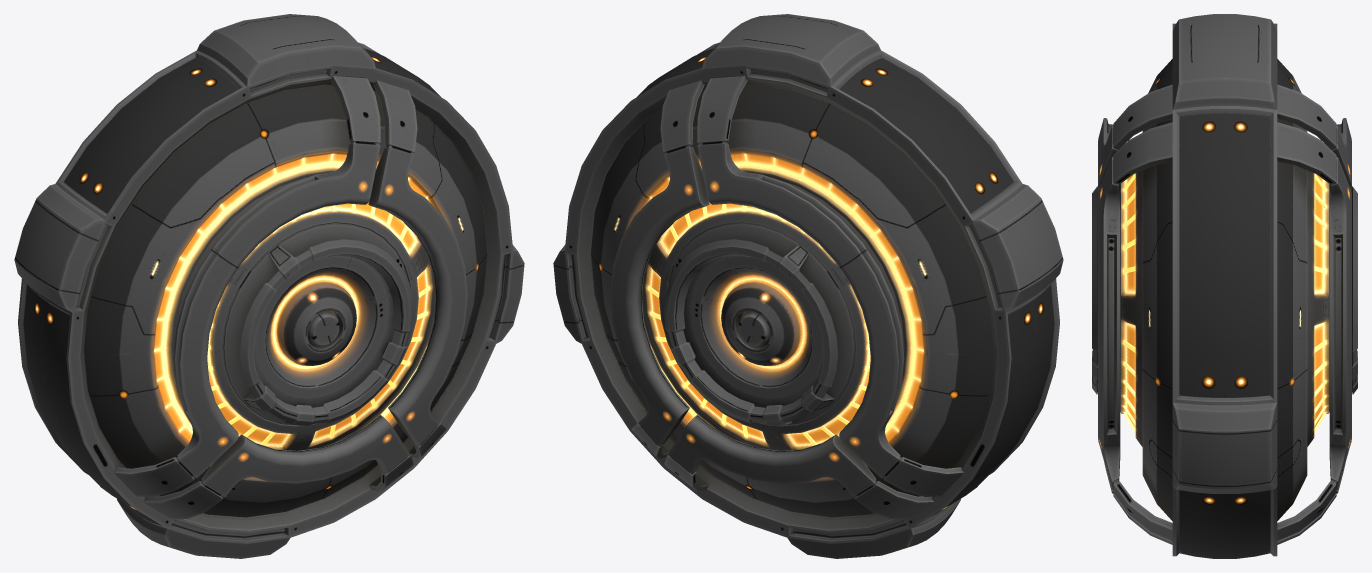
The picture shows the model from 3 angles, left to right: view 1: azimuth 30°, elevation 25°; view 2: azimuth 150°, elevation 25°; view 3: azimuth 270°, elevation 25°; orthographic projection. The views are drawn at different scales.
Parts seen in each view (by area): view 1: energy_core_1_low_Material_0_4; view 2: energy_core_1_low_Material_0_4; view 3: energy_core_1_low_Material_0_4.
Boxes of the visible parts, x1,y1,x2,y2 form: energy_core_1_low_Material_0_4: [14, 14, 524, 558]; energy_core_1_low_Material_0_4: [553, 14, 1063, 558]; energy_core_1_low_Material_0_4: [1092, 14, 1357, 558].
Size of the model in its own units: 1.83 by 1.87 by 0.8547.
1 material, 1 textured.
